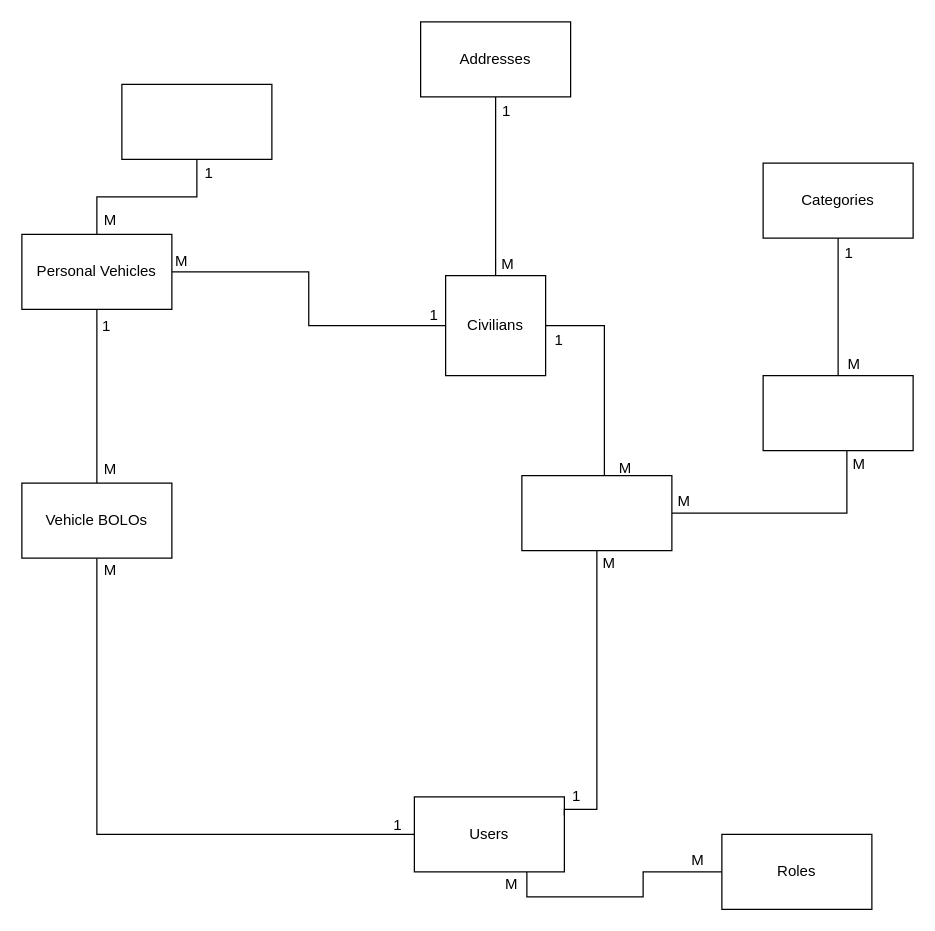
Some shapes in this 935 by 931 pixel diagram are drawn without their labels. The centre of each missing label's shape, as x and y in pixels:
"Crimes" goes at point 837,412.
"Raports" goes at point 596,512.
"VehicleModels" goes at point 196,121.
